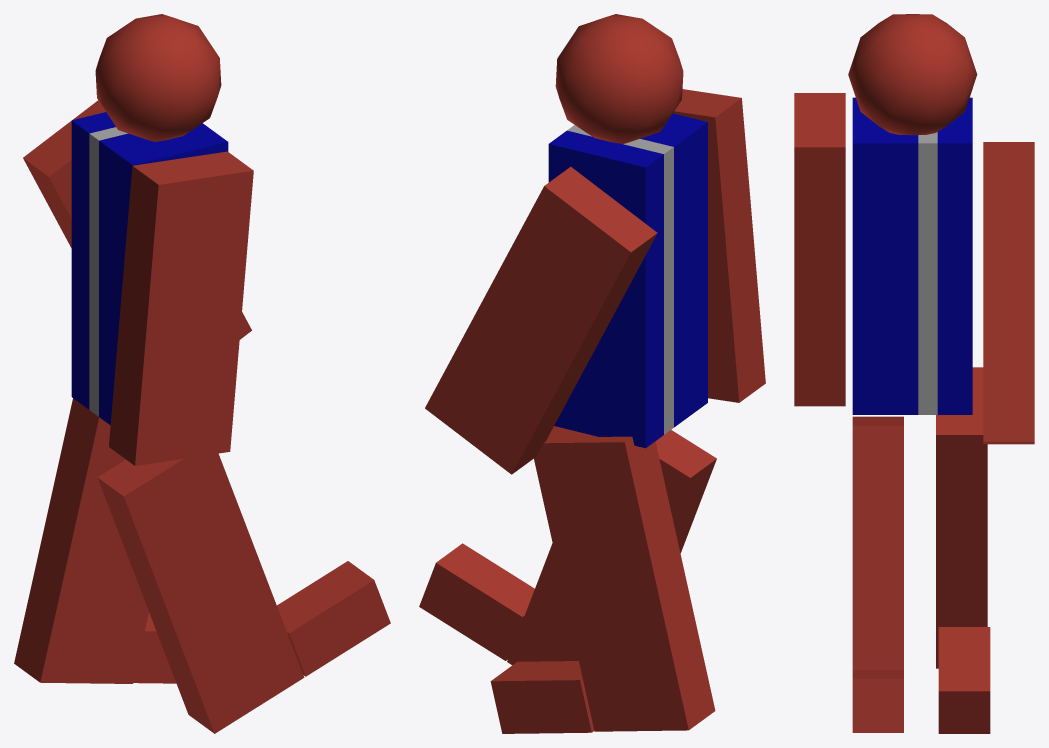
Rendered from player_000034.obj.
The picture shows the model from 3 angles, left to right: view 1: azimuth 30°, elevation 25°; view 2: azimuth 150°, elevation 25°; view 3: azimuth 270°, elevation 25°; orthographic projection. The views are drawn at different scales.
Visible parts, largest first — view 1: Cube.005, Cube.001, Cube.002, Cube, Icosphere, Cube.003, Cube.006, Cube.004; view 2: Cube.002, Cube.006, Cube, Cube.005, Icosphere, Cube.001, Cube.003, Cube.004; view 3: Cube, Cube.005, Cube.006, Cube.001, Icosphere, Cube.002, Cube.004, Cube.003.
Part boxes in pixels (x1,y1,x2,y2): Cube.005: (109,151,253,465); Cube.001: (97,453,304,733); Cube.002: (14,398,148,683); Cube: (71,112,228,425); Icosphere: (95,14,221,141); Cube.003: (277,561,390,676); Cube.006: (23,100,251,339); Cube.004: (133,612,176,683); Cube.002: (534,426,715,731); Cube.006: (425,166,657,474); Cube: (548,113,707,448); Cube.005: (673,89,765,402); Icosphere: (555,14,683,143); Cube.001: (507,430,716,665); Cube.003: (419,543,534,660); Cube.004: (490,661,594,733); Cube: (852,97,972,414); Cube.005: (794,93,845,406); Cube.006: (983,142,1034,444); Cube.001: (852,416,903,669); Icosphere: (848,14,977,135); Cube.002: (936,367,987,668); Cube.004: (938,627,990,733); Cube.003: (852,670,903,732).
Bounding box in the file's own units: 1.33 × 2.87 × 0.9137.
